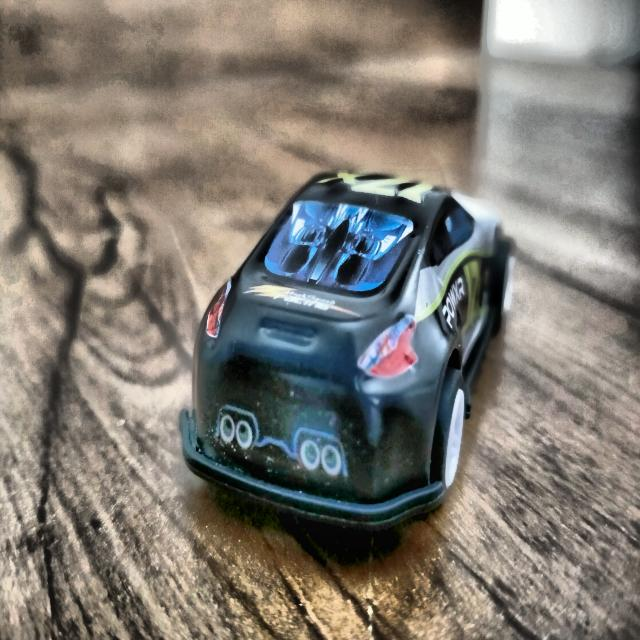Car: (176, 171, 516, 535)
